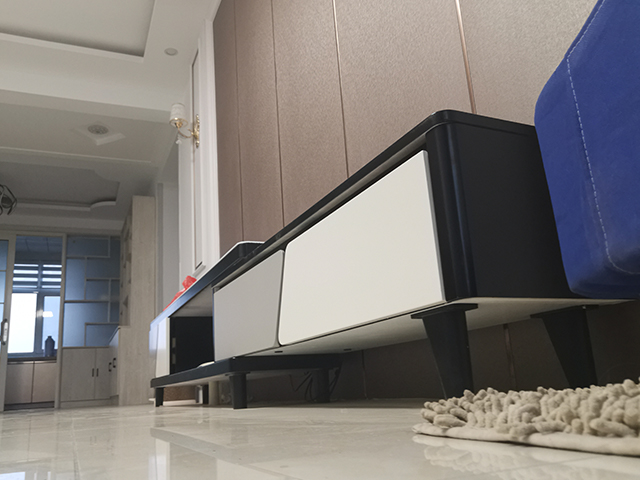cabinet: (145, 107, 600, 411), (63, 342, 133, 407), (1, 356, 60, 413)
carpet: (408, 377, 640, 458)
